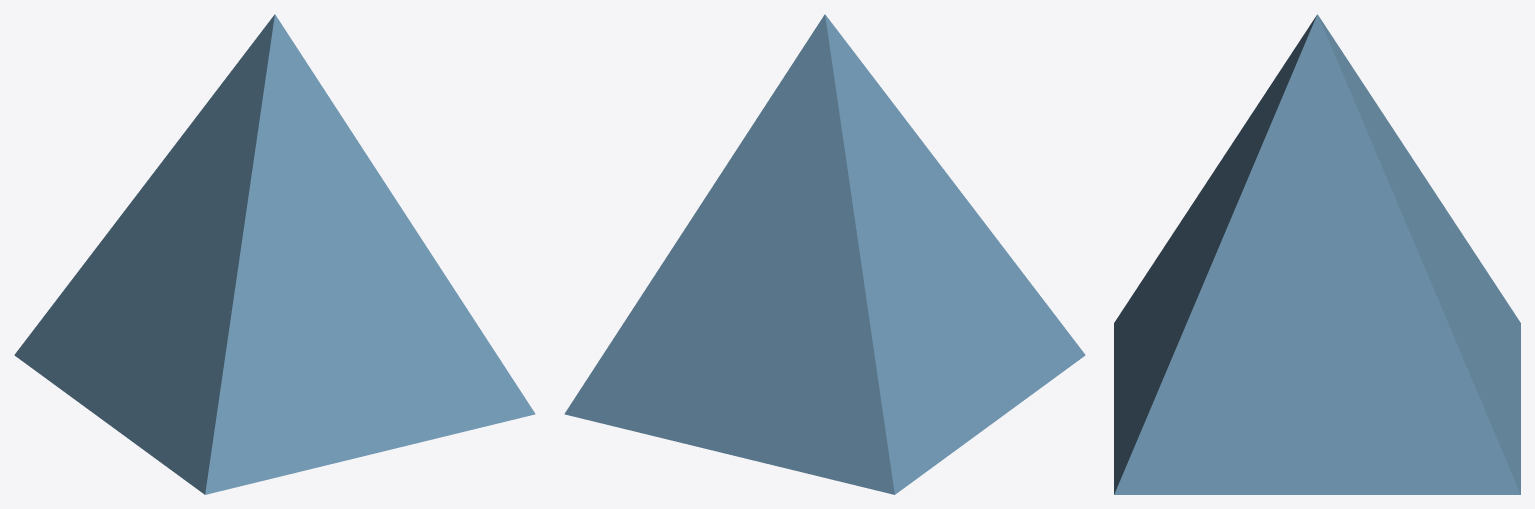
File: historico_piramide_cuadrangular_didactica.glb
3 renders of one model, left to right at view 1: azimuth 30°, elevation 25°; view 2: azimuth 150°, elevation 25°; view 3: azimuth 270°, elevation 25°, orthographic. The views are drawn at different scales.
Visible parts, largest first — view 1: world; view 2: world; view 3: world.
Part boxes in pixels (x1,y1,x2,y2): world: (14, 14, 535, 494); world: (564, 14, 1085, 494); world: (1114, 14, 1520, 494).
Bounding box in the file's own units: 1.4 × 1.5 × 1.4.
